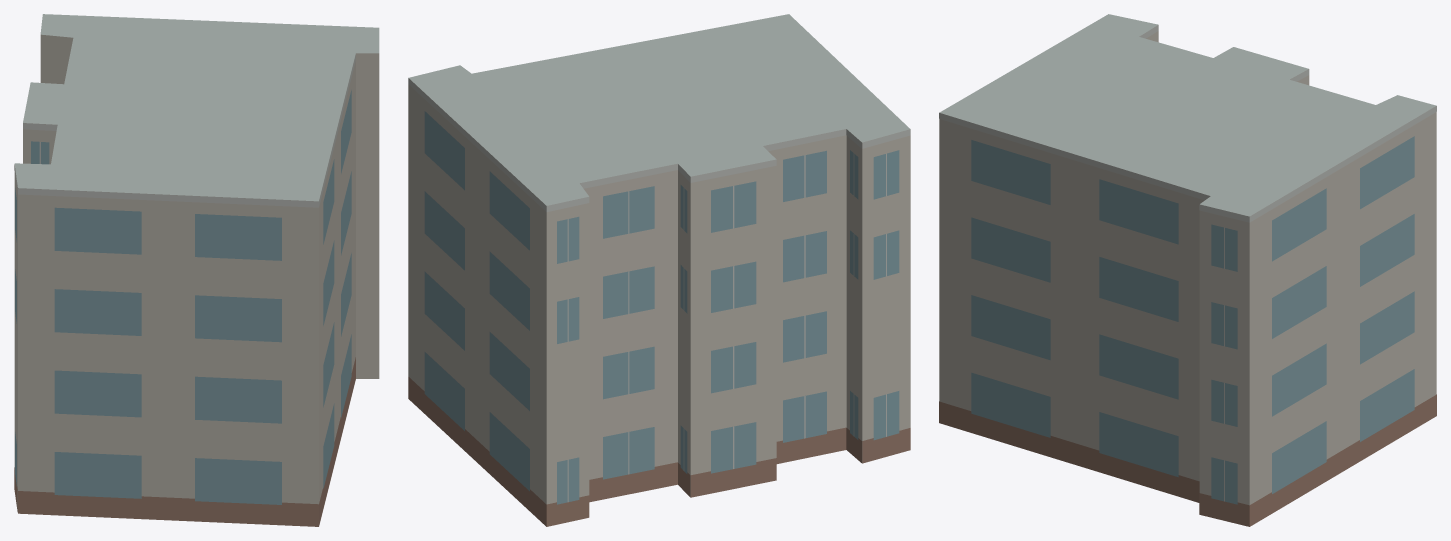
The model's file is survey-upis-32767489.glb.
The picture shows the model from 3 angles, left to right: view 1: azimuth 30°, elevation 25°; view 2: azimuth 150°, elevation 25°; view 3: azimuth 270°, elevation 25°; orthographic projection. The views are drawn at different scales.
Visible parts, largest first — view 1: survey-upis-32767489.tmp; view 2: survey-upis-32767489.tmp; view 3: survey-upis-32767489.tmp.
Part boxes in pixels (box(x1,y1,x2,y2)): survey-upis-32767489.tmp: box(14, 14, 379, 526); survey-upis-32767489.tmp: box(408, 14, 910, 526); survey-upis-32767489.tmp: box(939, 14, 1436, 526).
Size of the model in its own units: 17.38 by 12.41 by 18.04.
